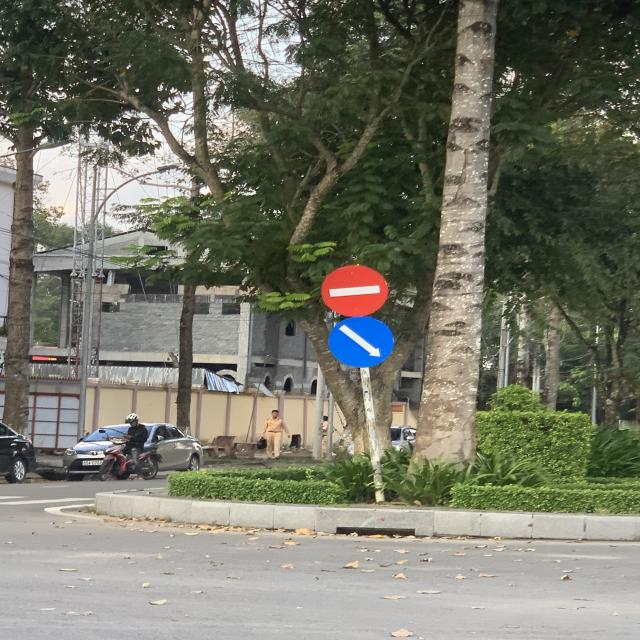Cam_Di_Nguoc_Chieu: (322, 265, 388, 316)
Chi_Huong_Di_Phai: (328, 316, 395, 367)
